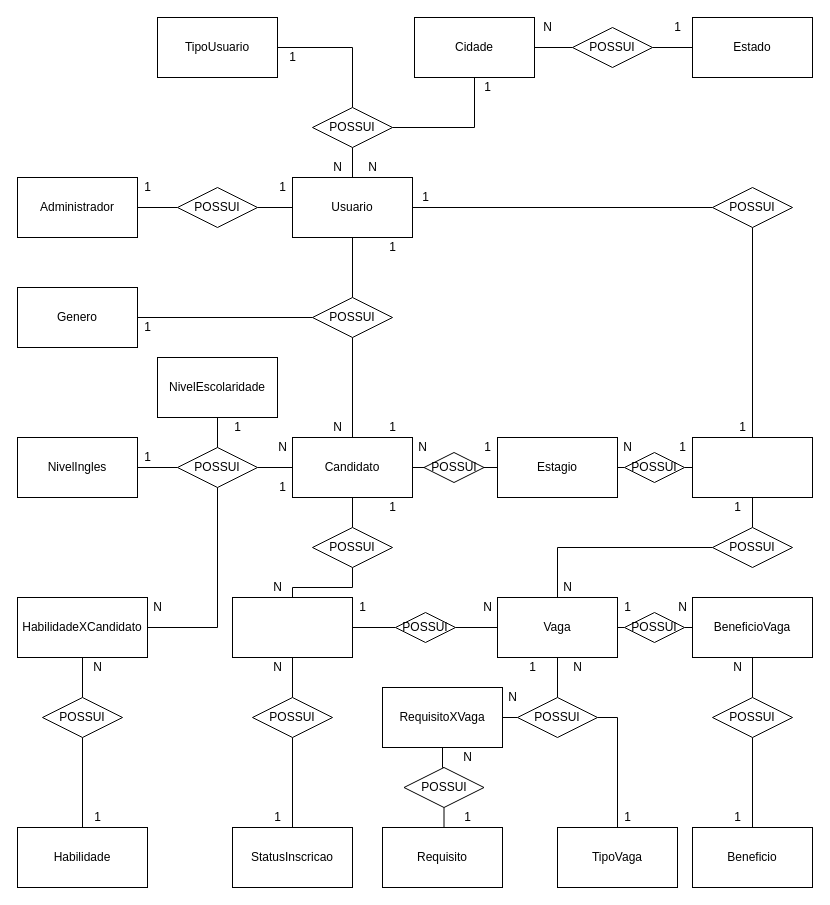
The diagram is 830 pixels wide and 905 high, and some of its shapes have lost their labels. Each missing label, with the centre of its shape:
"Empresa" goes at [752,467].
"Inscricao" goes at [292,627].
